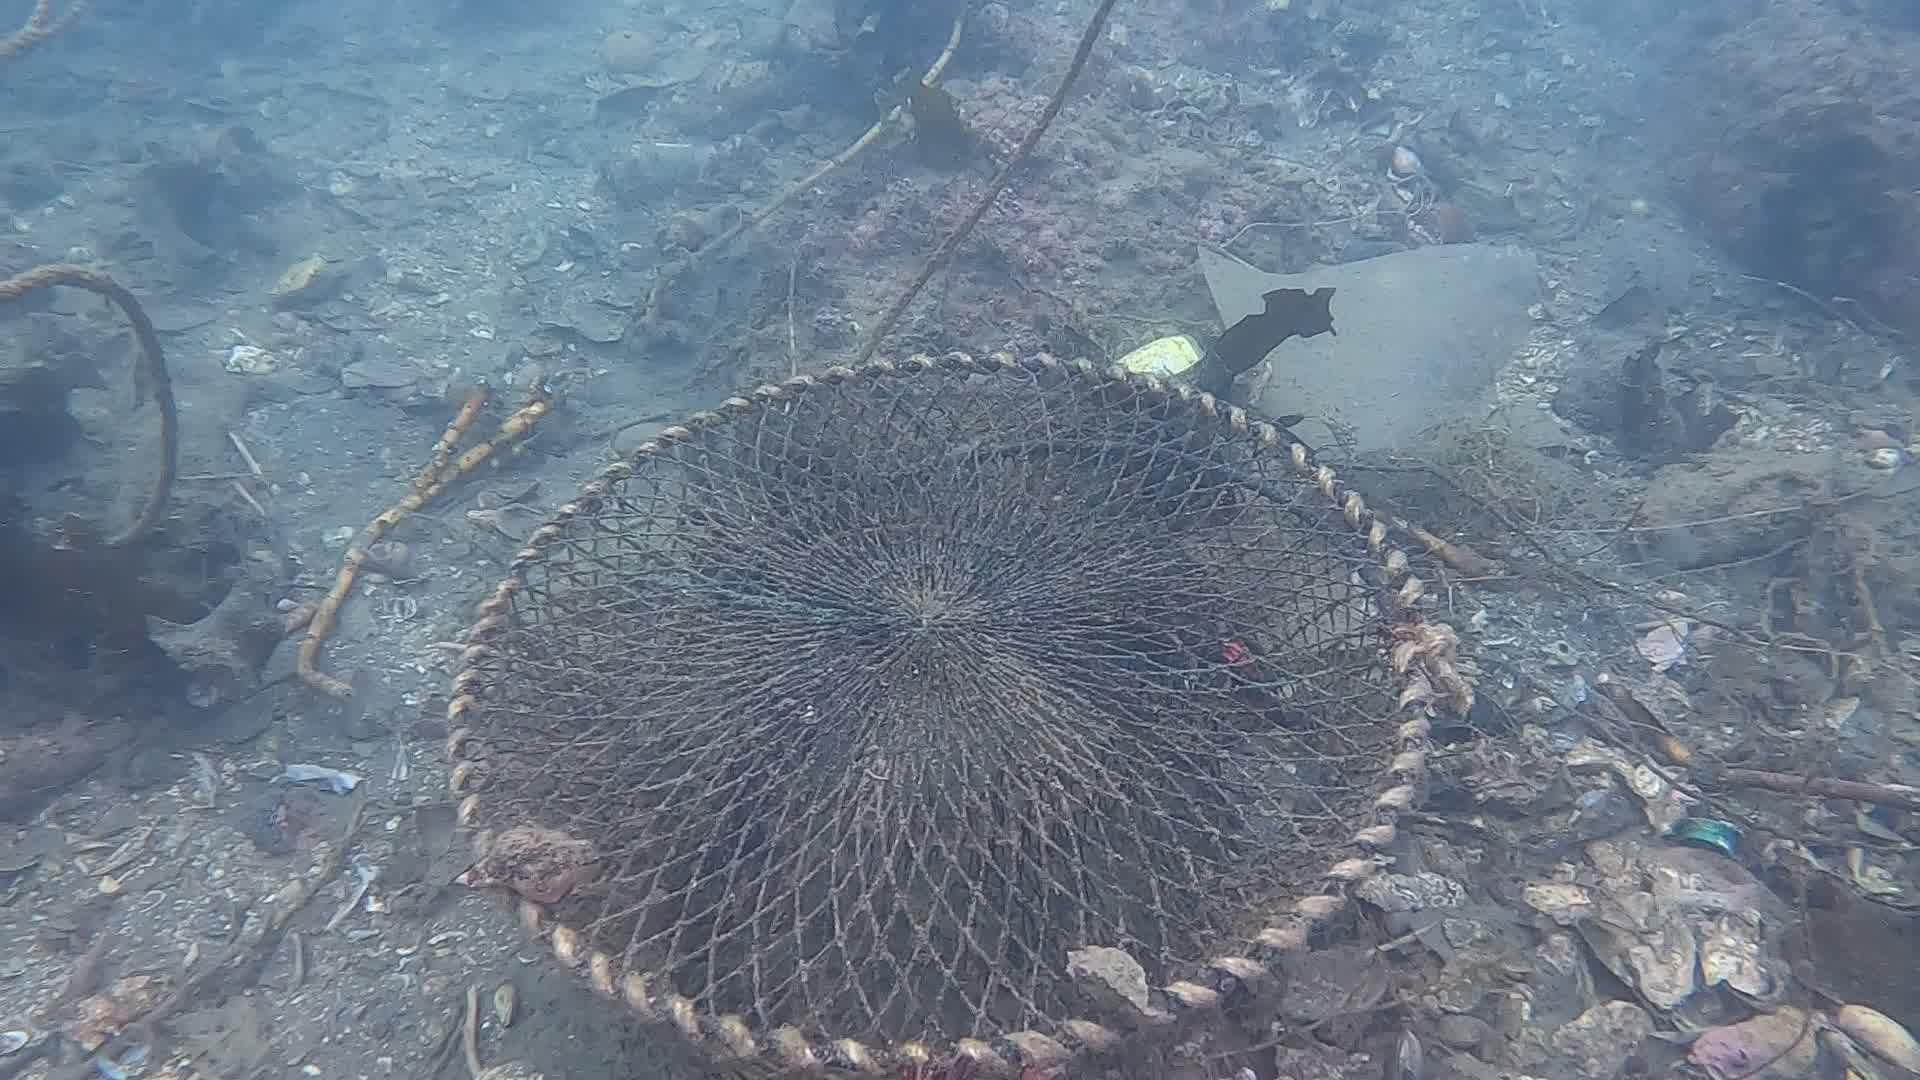circular fish trap: (443, 345, 1437, 1080)
rope: (0, 261, 179, 545)
